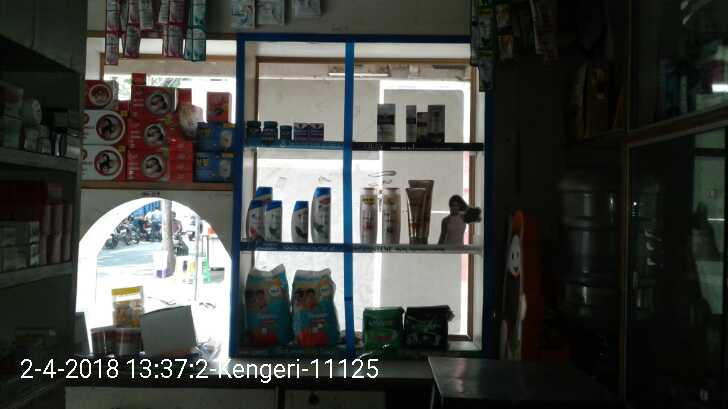vicks: (245, 120, 328, 147)
